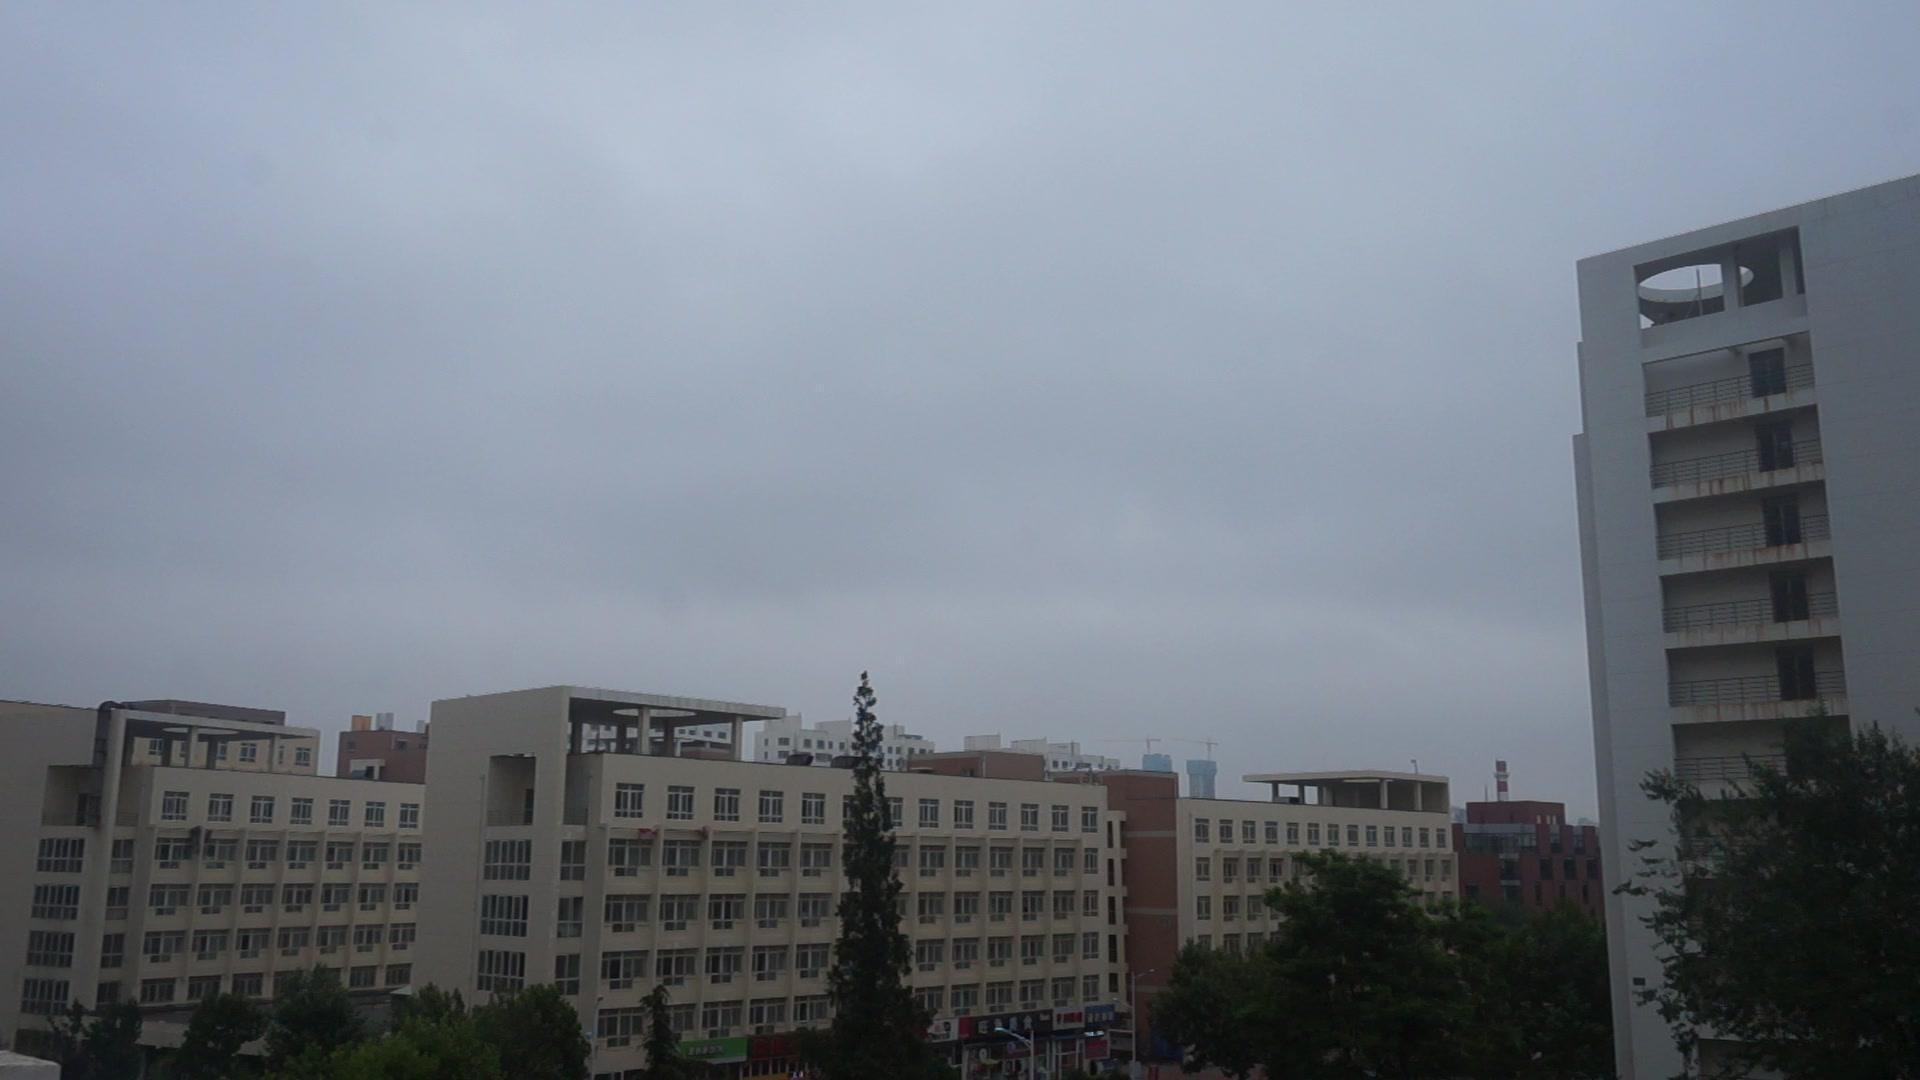UAV: (1077, 767, 1106, 785)
